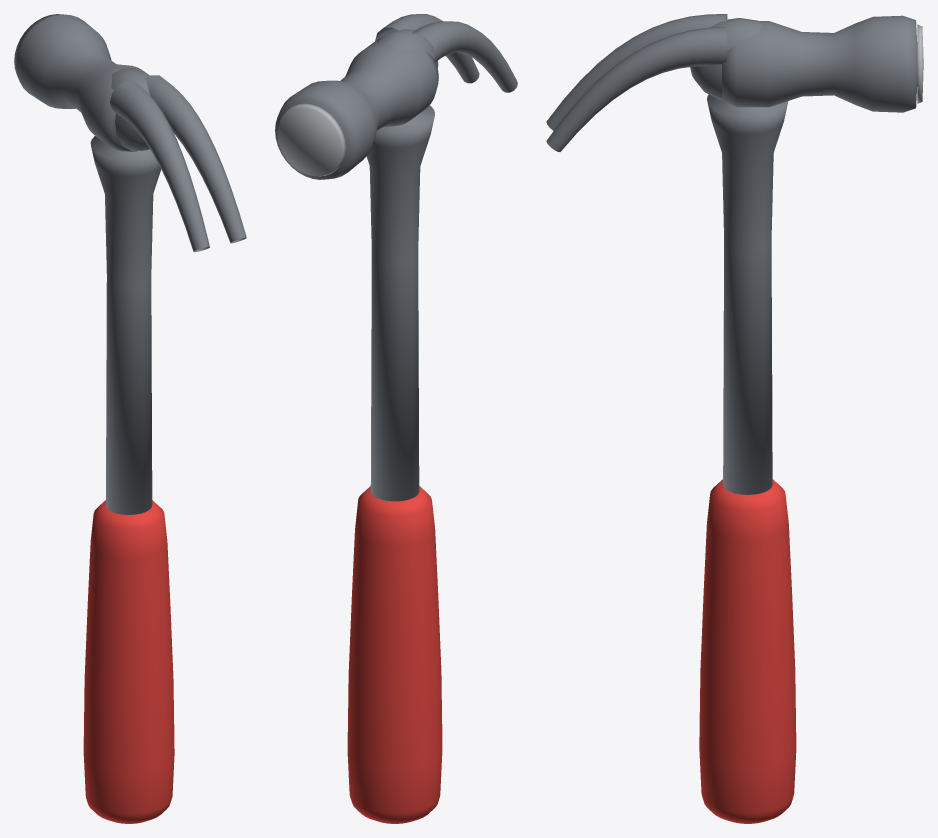
Rendered from hammer.glb.
The picture shows the model from 3 angles, left to right: view 1: azimuth 30°, elevation 25°; view 2: azimuth 150°, elevation 25°; view 3: azimuth 270°, elevation 25°; orthographic projection. The views are drawn at different scales.
Visible parts, largest first — view 1: Hammer; view 2: Hammer; view 3: Hammer.
Boxes of the visible parts, <box> form: Hammer: <box>14,14,246,823</box>; Hammer: <box>275,14,517,823</box>; Hammer: <box>546,14,923,823</box>.
Bounding box in the file's own units: 0.045 × 0.4075 × 0.1749.
